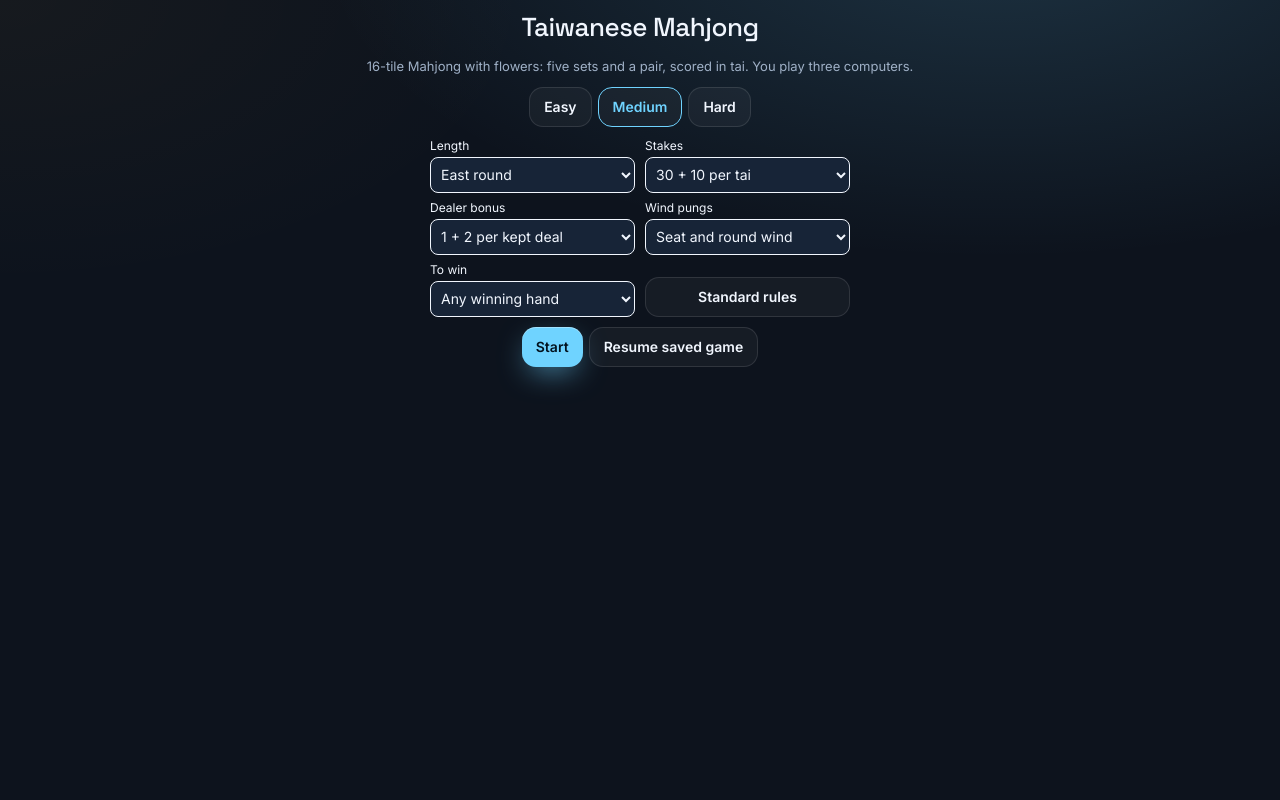
Taiwanese Mahjong › reports the result exactly once when the match ends, even in StrictMode
Click the button "Resume saved game": (674, 346) [589, 326, 758, 366]
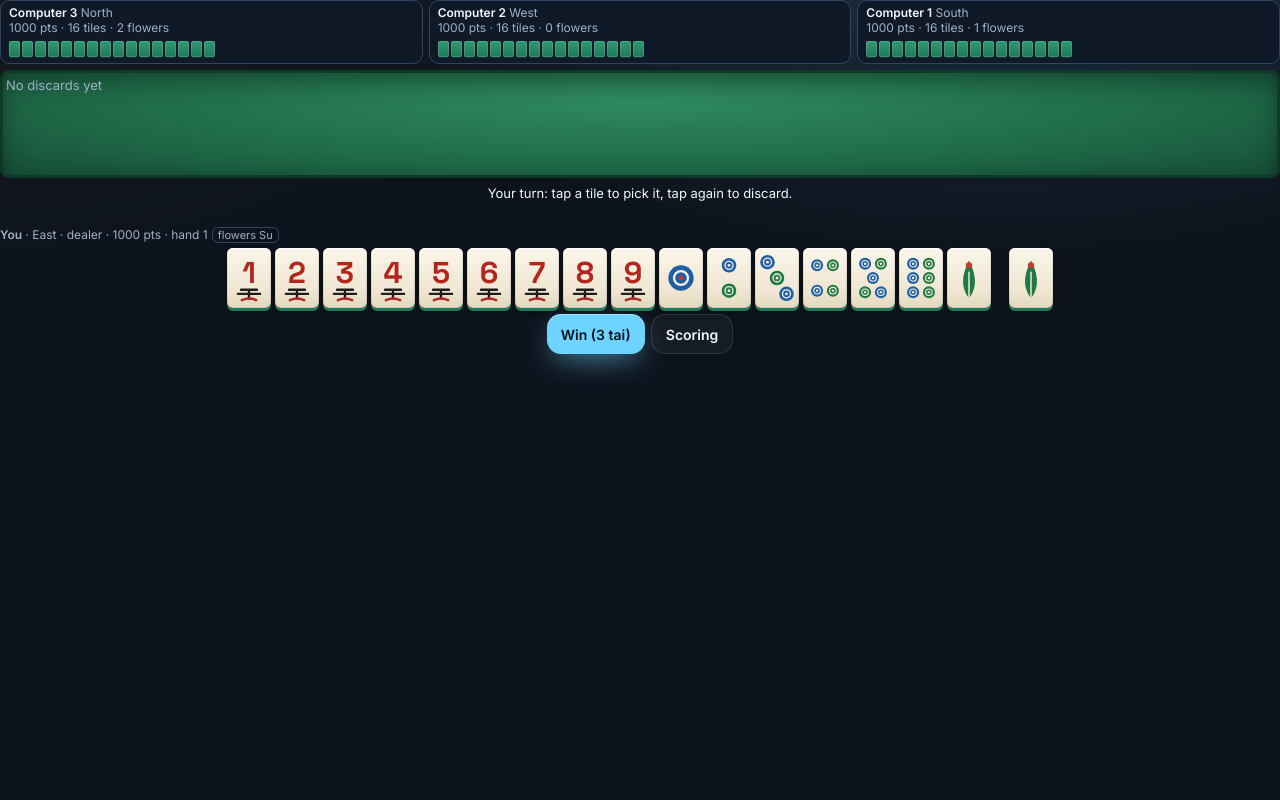
Click the button "Win (3 tai)": (596, 334) [547, 314, 645, 354]
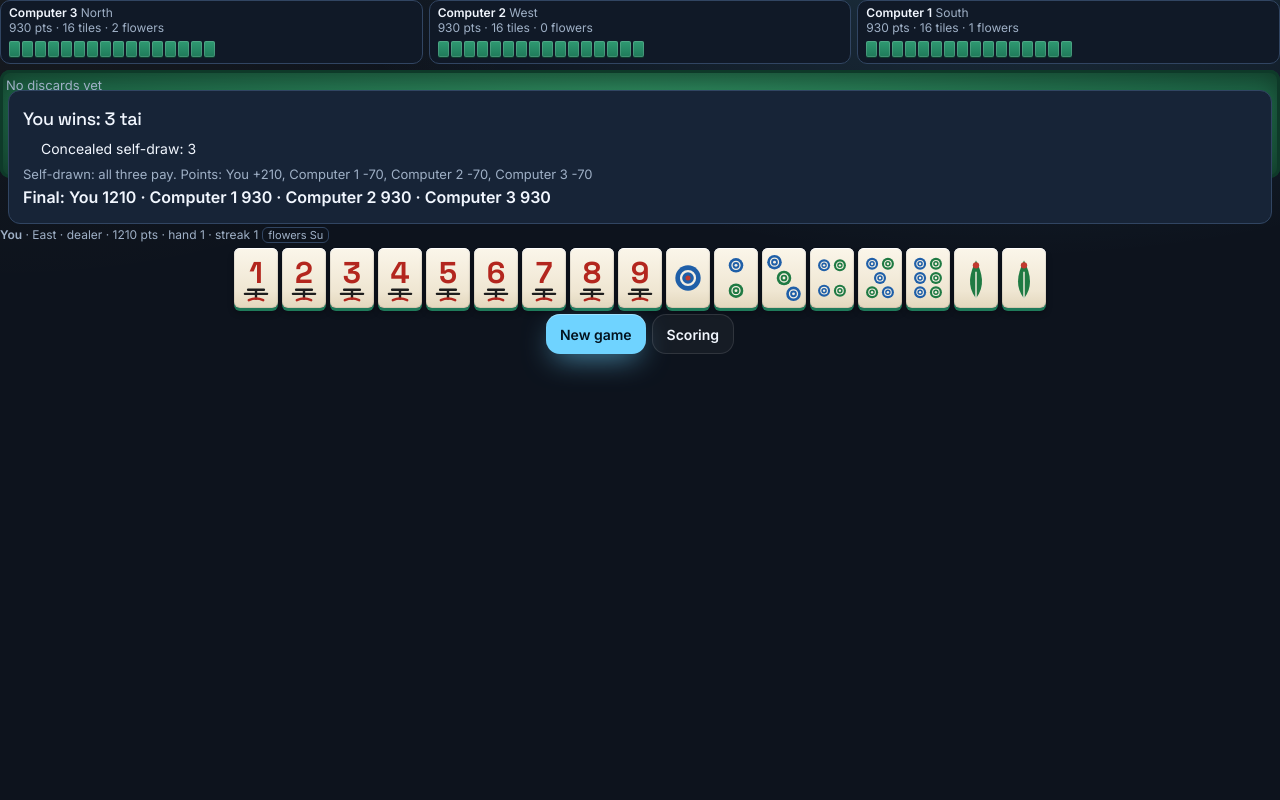
Expected: the dialog named "Hand result" shows "You wins", [8, 90, 1272, 224]
